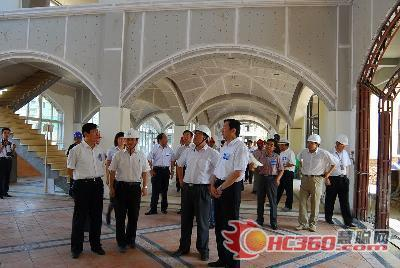head: (81, 121, 102, 147), (222, 118, 241, 142), (263, 139, 279, 154), (156, 131, 170, 146), (1, 125, 14, 141), (114, 131, 125, 147)
helmet: (191, 125, 215, 148), (123, 129, 144, 152), (306, 133, 324, 152), (334, 134, 351, 154), (181, 128, 196, 146), (278, 137, 293, 152), (73, 131, 83, 144)
